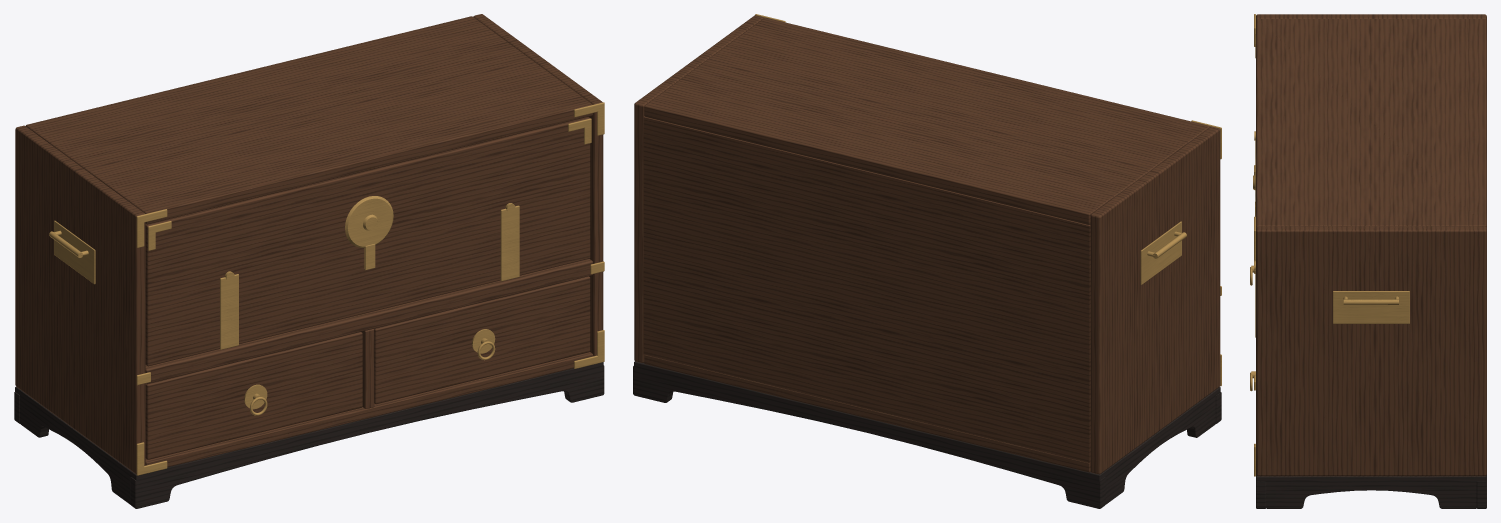
The model's file is ondol_chest.glb.
The picture shows the model from 3 angles, left to right: view 1: azimuth 30°, elevation 25°; view 2: azimuth 150°, elevation 25°; view 3: azimuth 270°, elevation 25°; orthographic projection. The views are drawn at different scales.
Visible parts, largest first — view 1: part_carcass_LOD0, part_flap_LOD0, part_drawer_r_LOD0, part_drawer_l_LOD0, part_plinth_LOD0; view 2: part_carcass_LOD0, part_plinth_LOD0; view 3: part_carcass_LOD0, part_plinth_LOD0.
Part boxes in pixels (x1,y1,x2,y2): part_carcass_LOD0: (15, 14, 604, 475); part_flap_LOD0: (145, 117, 591, 366); part_drawer_r_LOD0: (145, 332, 362, 459); part_drawer_l_LOD0: (374, 276, 590, 404); part_plinth_LOD0: (14, 362, 604, 508); part_carcass_LOD0: (634, 14, 1221, 474); part_plinth_LOD0: (633, 361, 1221, 508); part_carcass_LOD0: (1254, 14, 1486, 476); part_plinth_LOD0: (1256, 474, 1486, 508).
Size of what is drawn, in the model's own units: 1.05 by 0.6 by 0.4614.
Materials: 4 (4 with a texture image).
